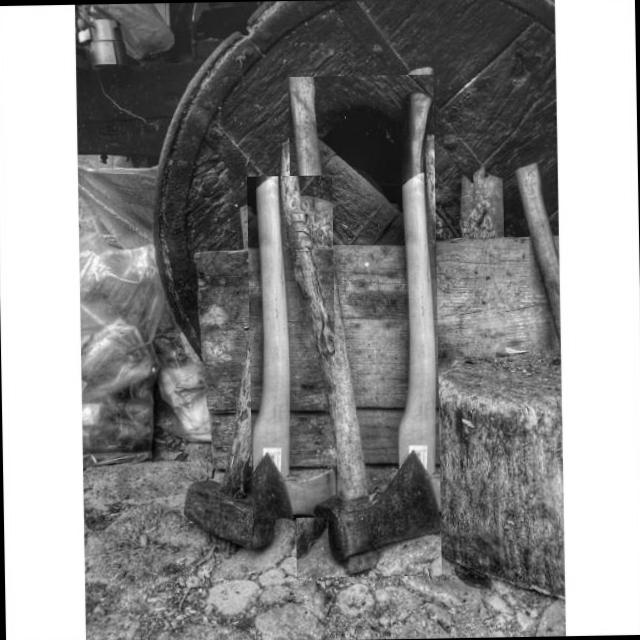Axe: (288, 76, 441, 576), (252, 176, 337, 517)
